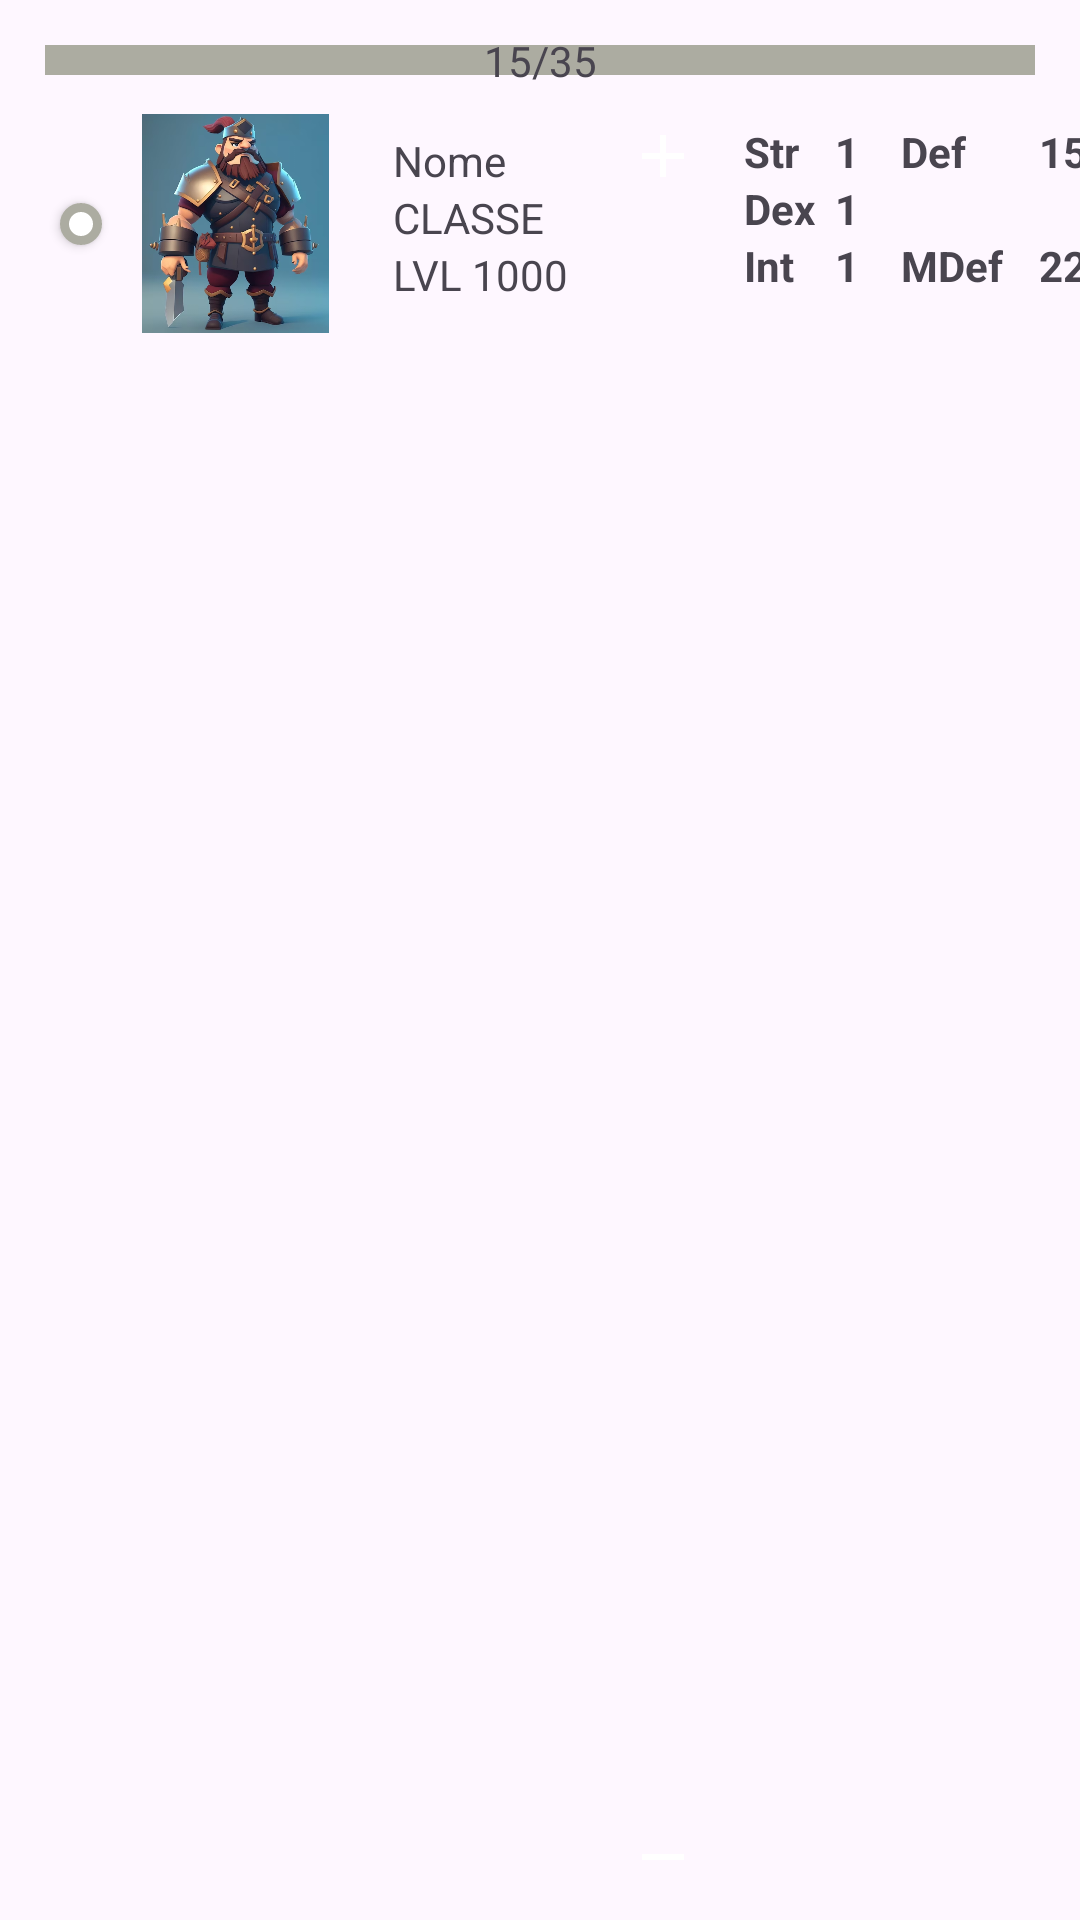

Locate icon controls on the screen. Image size 1080x1920, boxes as box(x1, y1, x2, y2).
warrior: box(142, 114, 329, 333)
